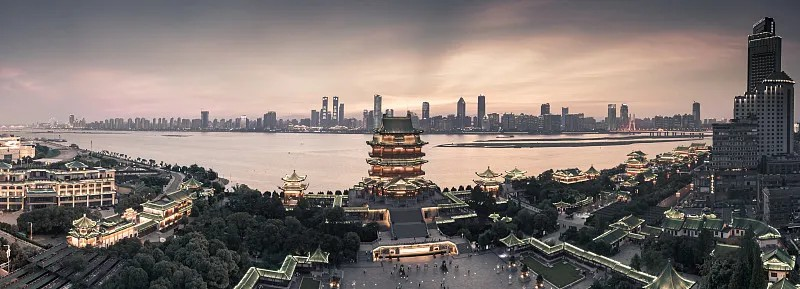Teng: (354, 115, 436, 202)
